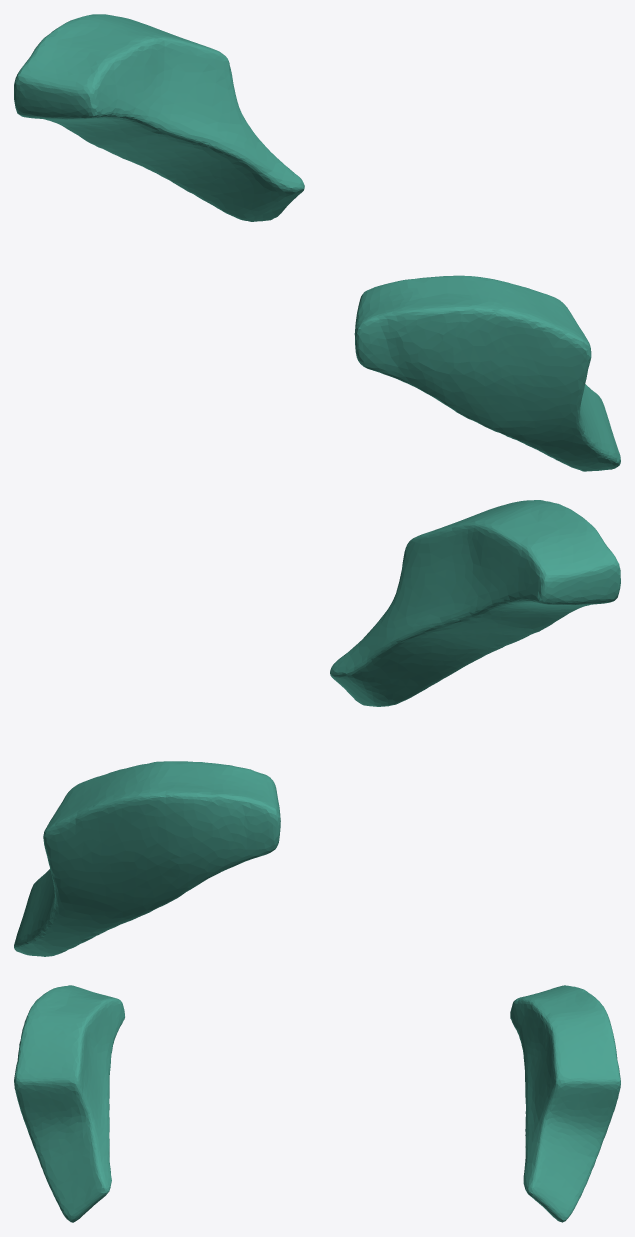
The picture shows the model from 3 angles, top to bottom: view 1: azimuth 30°, elevation 25°; view 2: azimuth 150°, elevation 25°; view 3: azimuth 270°, elevation 25°; orthographic projection. The views are drawn at different scales.
Parts seen in each view (by area): view 1: 378.obj; view 2: 378.obj; view 3: 378.obj.
Boxes of the visible parts, x1,y1,x2,y2 form: 378.obj: [14, 14, 620, 471]; 378.obj: [14, 500, 620, 956]; 378.obj: [14, 985, 620, 1222].
Size of the model in its own units: 3694 by 2931 by 10085.
